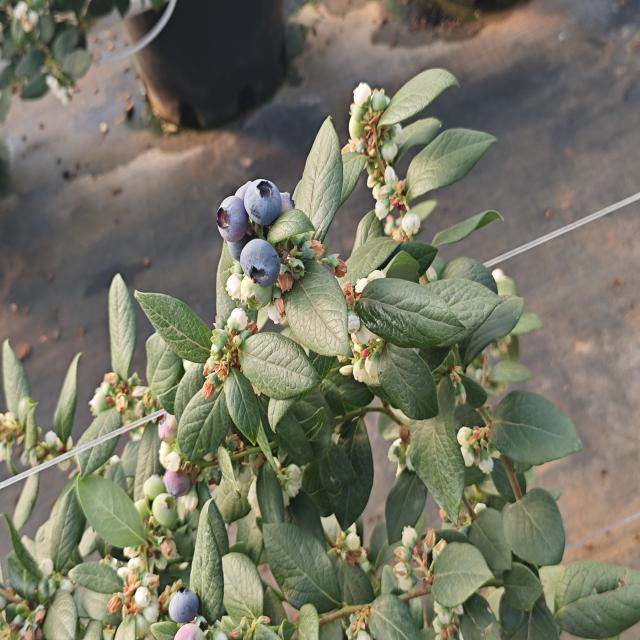ripe: (238, 236, 285, 292), (243, 175, 284, 228), (213, 190, 250, 245), (163, 580, 205, 628), (223, 220, 253, 262)
